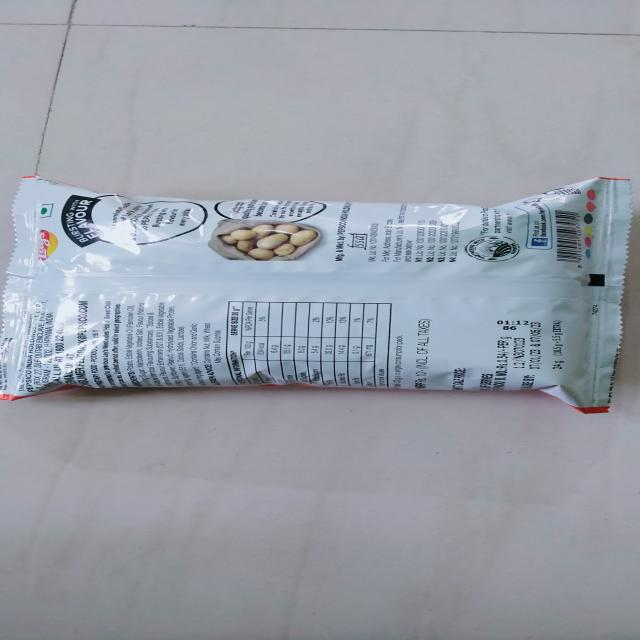lays: (0, 181, 640, 420)
